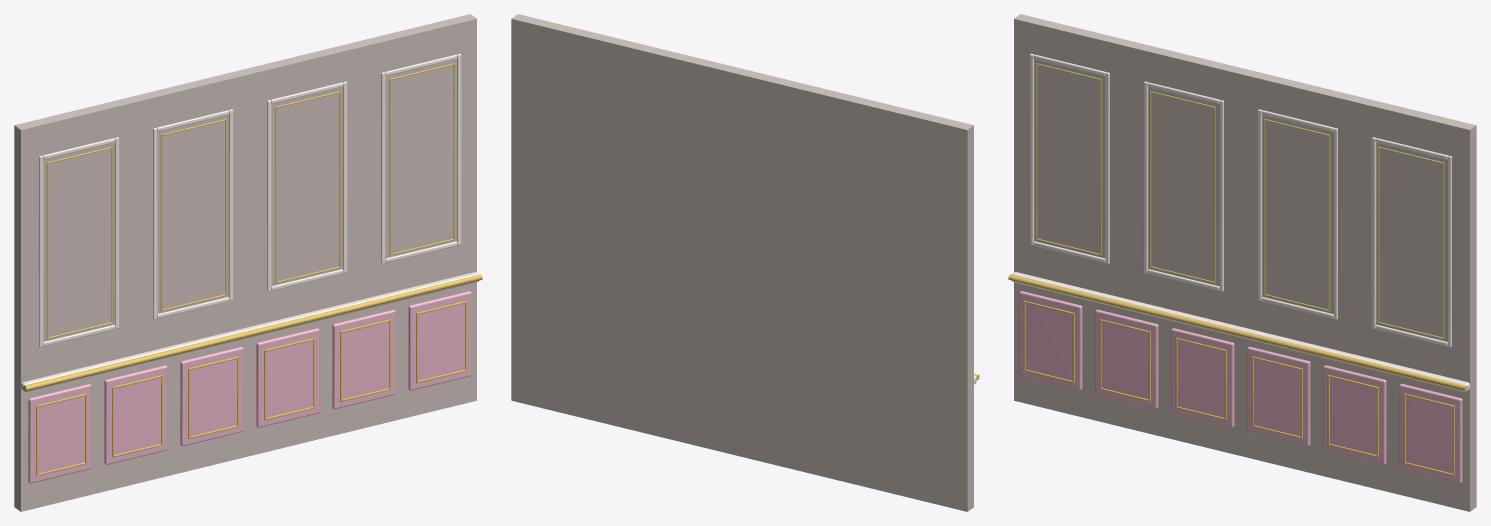
Rendered from wall_panel_wide.glb.
The picture shows the model from 3 angles, left to right: view 1: azimuth 30°, elevation 25°; view 2: azimuth 150°, elevation 25°; view 3: azimuth 330°, elevation 25°; orthographic projection.
Parts seen in each view (by area): view 1: wall_panel_wide; view 2: wall_panel_wide; view 3: wall_panel_wide.
Boxes of the visible parts, <box> form: wall_panel_wide: <box>14,14,482,511</box>; wall_panel_wide: <box>511,14,979,511</box>; wall_panel_wide: <box>1008,14,1476,511</box>.
Bounding box in the file's own units: 4 × 3.2 × 0.1829.
